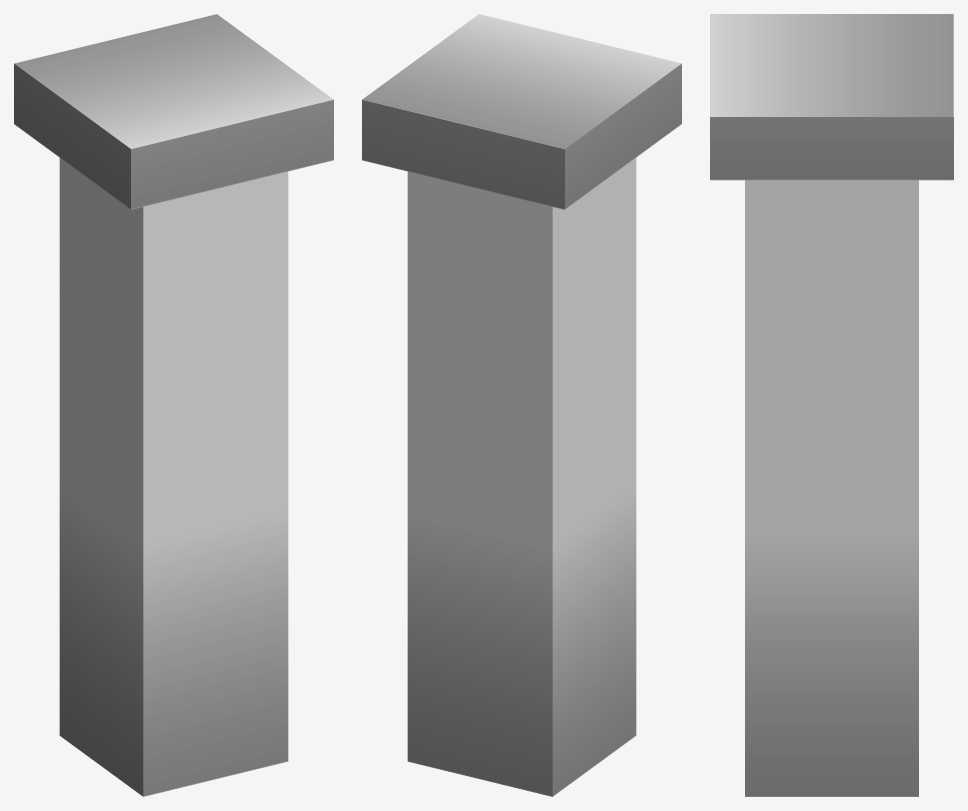
File: fence-endpost.fbx
3 renders of one model, left to right at view 1: azimuth 30°, elevation 25°; view 2: azimuth 150°, elevation 25°; view 3: azimuth 270°, elevation 25°, orthographic. The views are drawn at different scales.
Visible parts, largest first — view 1: fence_endpost, fence_endpost_cap; view 2: fence_endpost, fence_endpost_cap; view 3: fence_endpost, fence_endpost_cap.
Boxes of the visible parts, box(x1,y1,x2,y2) form: fence_endpost: box(59, 158, 288, 796); fence_endpost_cap: box(14, 14, 333, 209); fence_endpost: box(407, 158, 636, 796); fence_endpost_cap: box(362, 14, 681, 209); fence_endpost: box(745, 180, 918, 796); fence_endpost_cap: box(710, 14, 953, 180).
Bounding box in the file's own units: 35 × 110 × 35.
